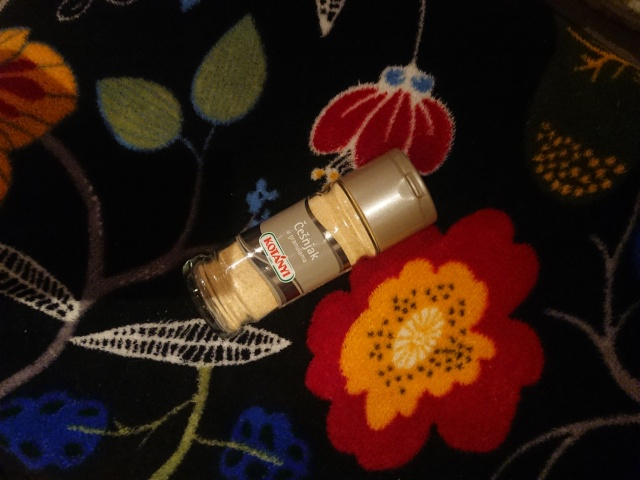Kotanyi Garlic Granules 70g: (178, 143, 441, 345)
